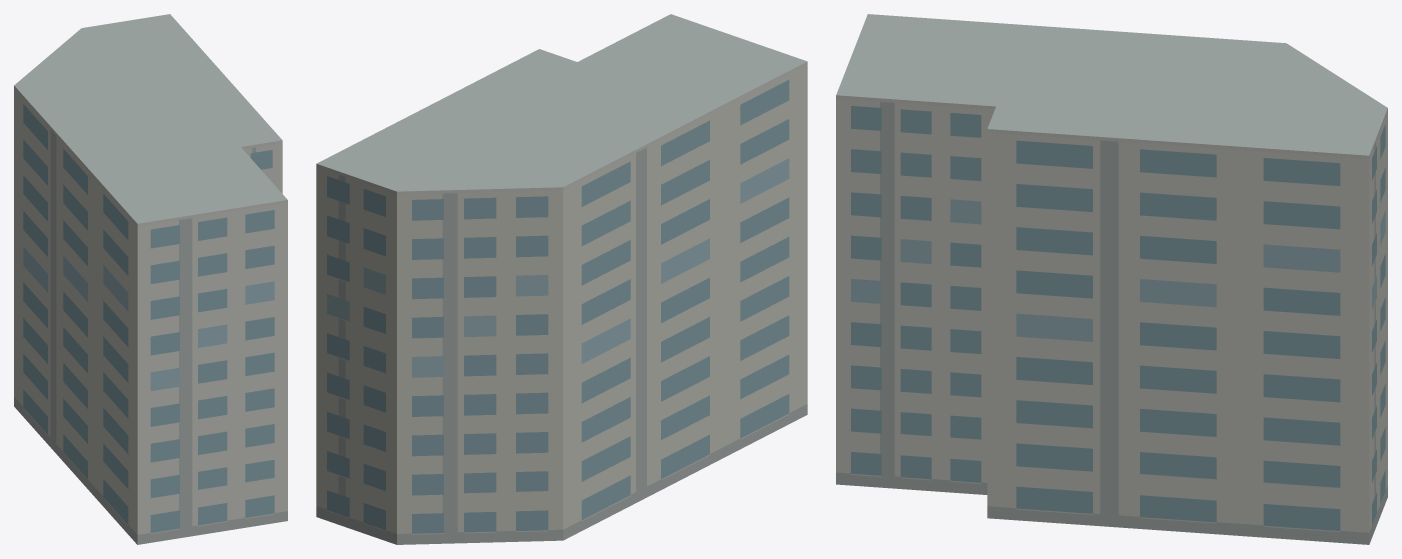
Rendered from residential-4cc9fd72-c954-4c91-adfa-0c9b78bd235b.glb.
3 renders of one model, left to right at view 1: azimuth 30°, elevation 25°; view 2: azimuth 150°, elevation 25°; view 3: azimuth 270°, elevation 25°, orthographic. The views are drawn at different scales.
Visible parts, largest first — view 1: residential-4cc9fd72-c954-4c91-adfa-0c9b78bd235b.tmp; view 2: residential-4cc9fd72-c954-4c91-adfa-0c9b78bd235b.tmp; view 3: residential-4cc9fd72-c954-4c91-adfa-0c9b78bd235b.tmp.
Boxes of the visible parts, x1=… form: residential-4cc9fd72-c954-4c91-adfa-0c9b78bd235b.tmp: x1=14, y1=14, x2=287, y2=544; residential-4cc9fd72-c954-4c91-adfa-0c9b78bd235b.tmp: x1=316, y1=14, x2=807, y2=544; residential-4cc9fd72-c954-4c91-adfa-0c9b78bd235b.tmp: x1=836, y1=14, x2=1387, y2=544.
Size of the model in its own units: 21.44 by 27.45 by 35.28.
